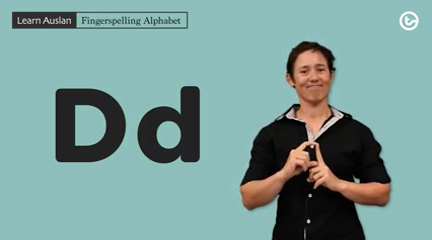D: (283, 138, 335, 192)
